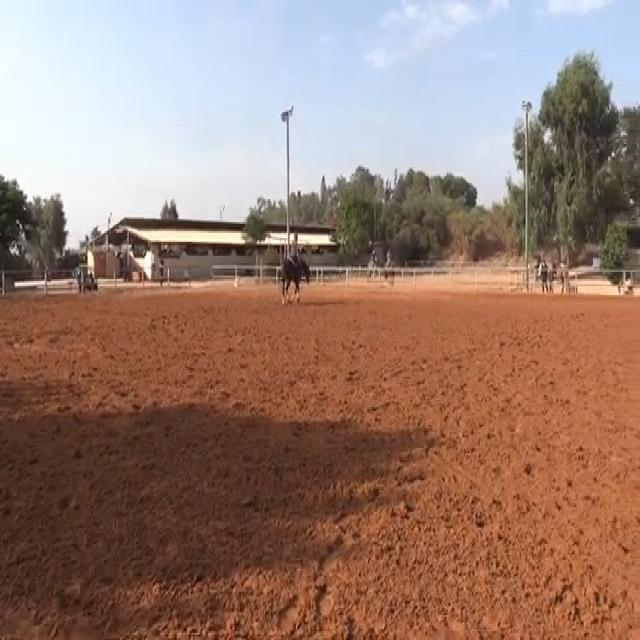horse: (277, 249, 311, 306)
